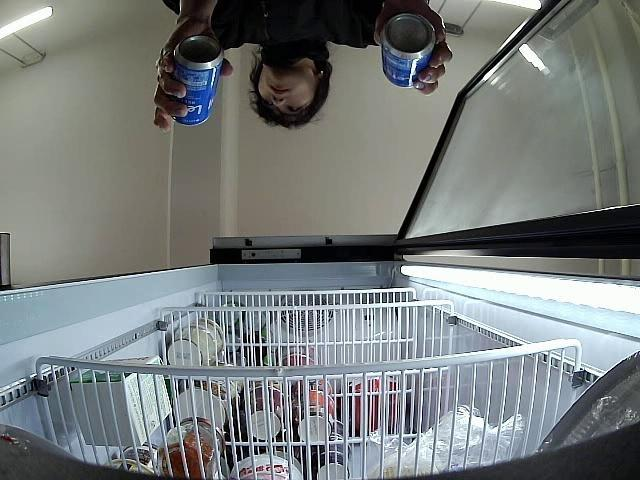15_letsbe: (170, 34, 222, 125), (382, 13, 436, 85)
